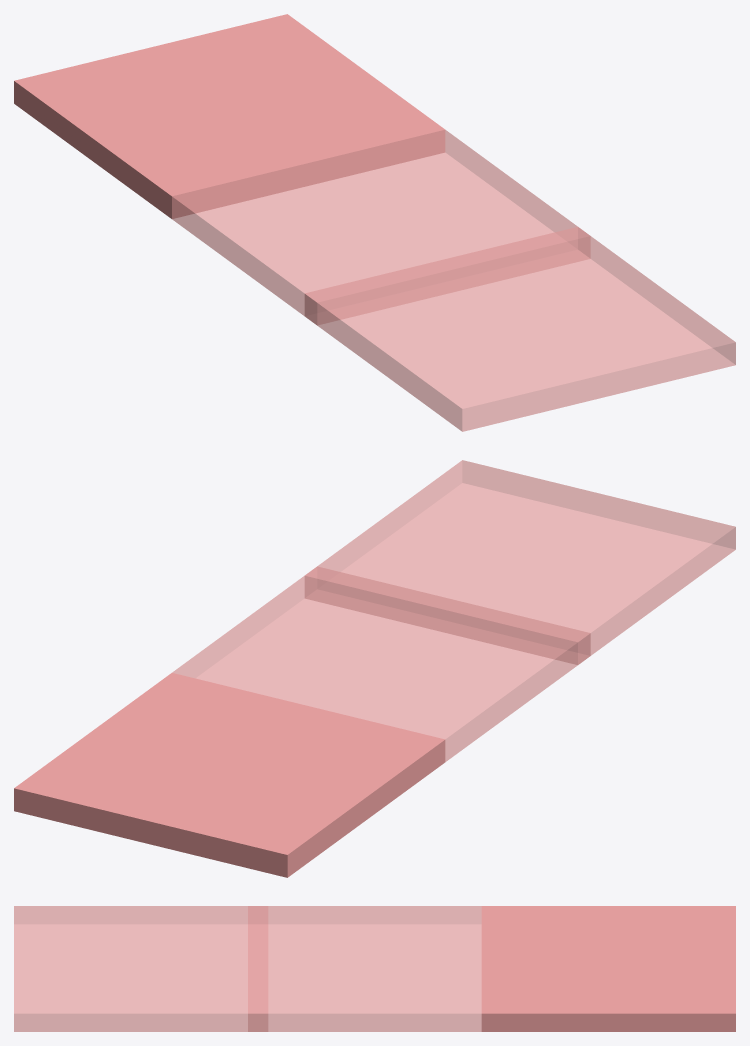
File: torre_step4.glb
3 renders of one model, top to bottom at view 1: azimuth 30°, elevation 25°; view 2: azimuth 150°, elevation 25°; view 3: azimuth 270°, elevation 25°, orthographic. The views are drawn at different scales.
Visible parts, largest first — view 1: quadrato_grande.002, quadrato_grande, quadrato_grande.001; view 2: quadrato_grande.002, quadrato_grande, quadrato_grande.001; view 3: quadrato_grande.002, quadrato_grande, quadrato_grande.001.
Part boxes in pixels (<box>): quadrato_grande.002: <box>14,14,445,218</box>; quadrato_grande: <box>304,227,735,431</box>; quadrato_grande.001: <box>160,120,590,325</box>; quadrato_grande.002: <box>14,673,445,877</box>; quadrato_grande: <box>305,460,735,664</box>; quadrato_grande.001: <box>172,566,590,770</box>; quadrato_grande.002: <box>481,906,735,1031</box>; quadrato_grande: <box>14,906,268,1031</box>; quadrato_grande.001: <box>248,906,501,1031</box>.
Size of the model in its own units: 1 by 0.08 by 2.84.
